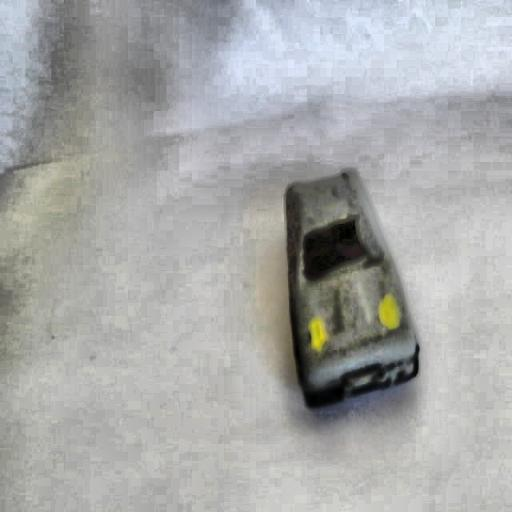normal_car: (279, 167, 423, 413)
